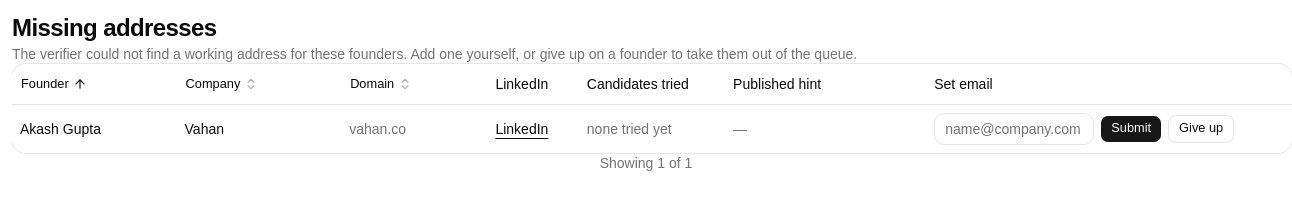
Test: a 422 on manual address keeps the typed text
In the field named "address for akash gupta": (1014, 128) [934, 112, 1094, 144], type "not-an-email"
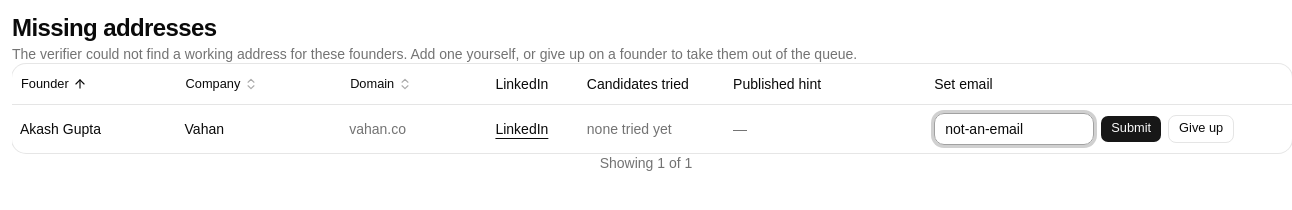
Click the button "Submit": (1131, 128) [1100, 114, 1162, 142]
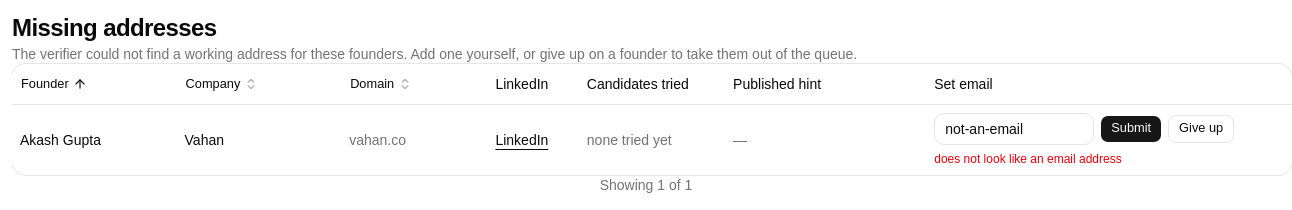
Expected: the text "does not look like an email address" is shown, [934, 152, 1122, 166]
